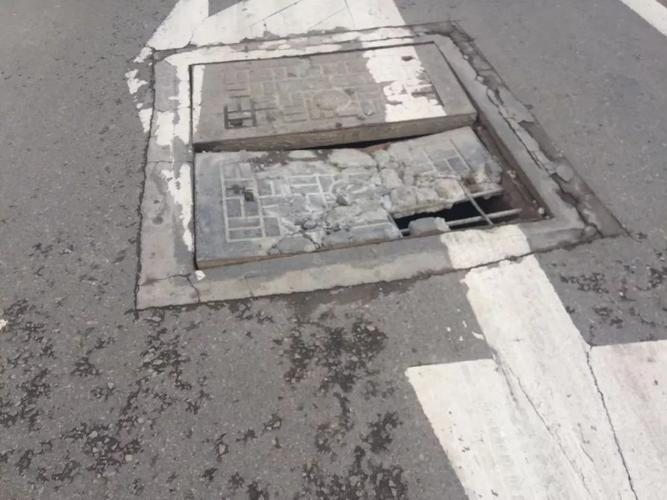broke: (144, 33, 600, 305)
